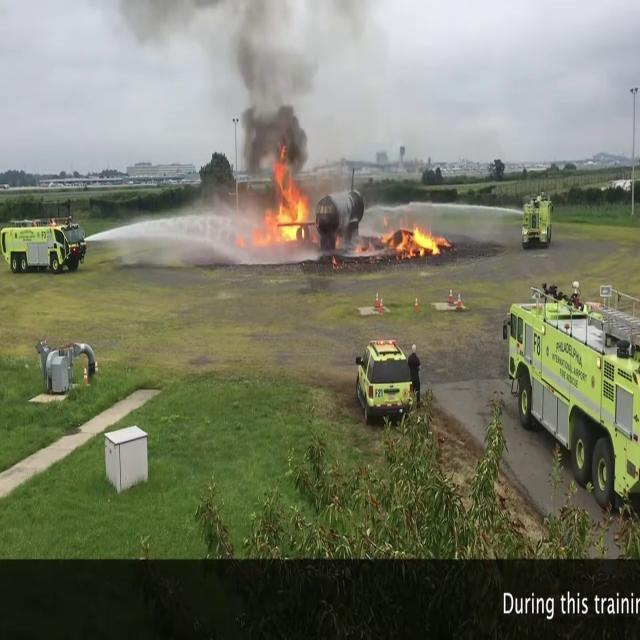Fire: (256, 150, 314, 246), (382, 214, 450, 260)
Smoke: (177, 0, 335, 173)
